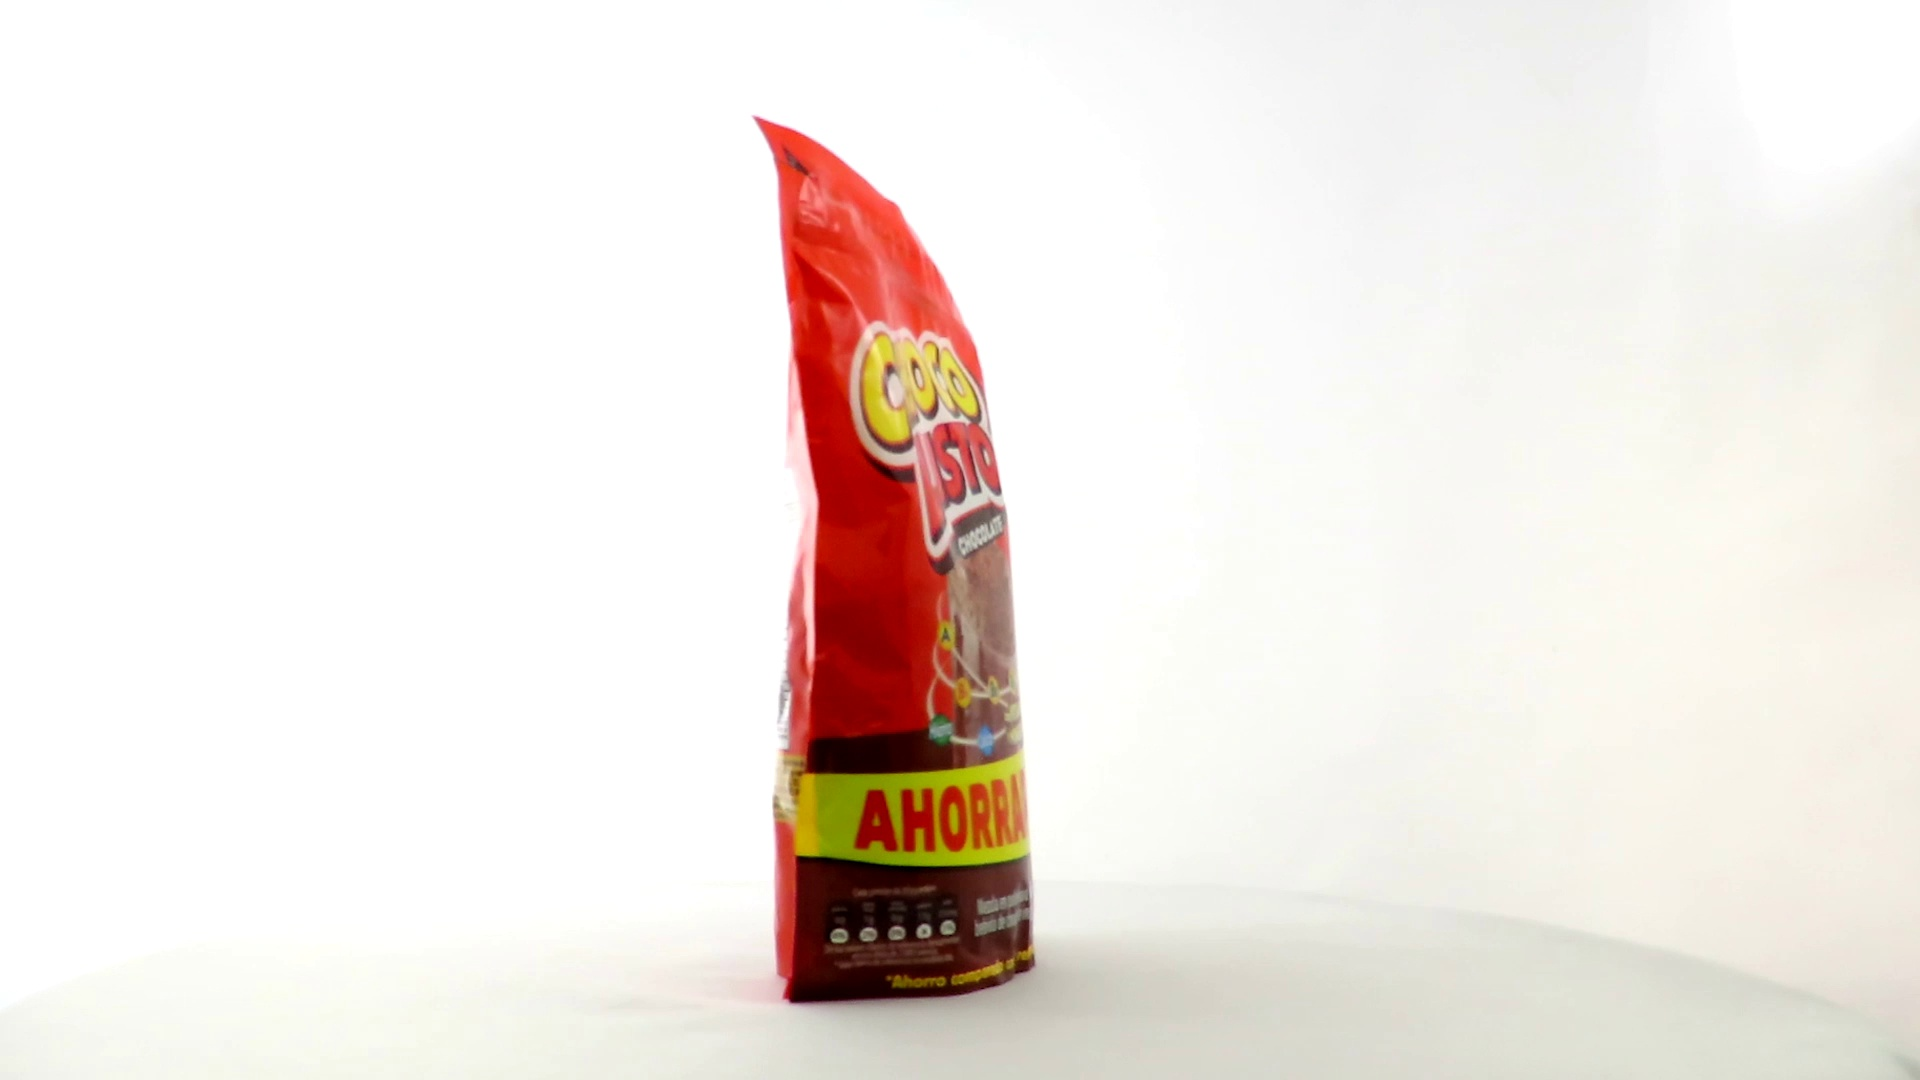COL0170103DYP36000: (746, 109, 1040, 1010)
